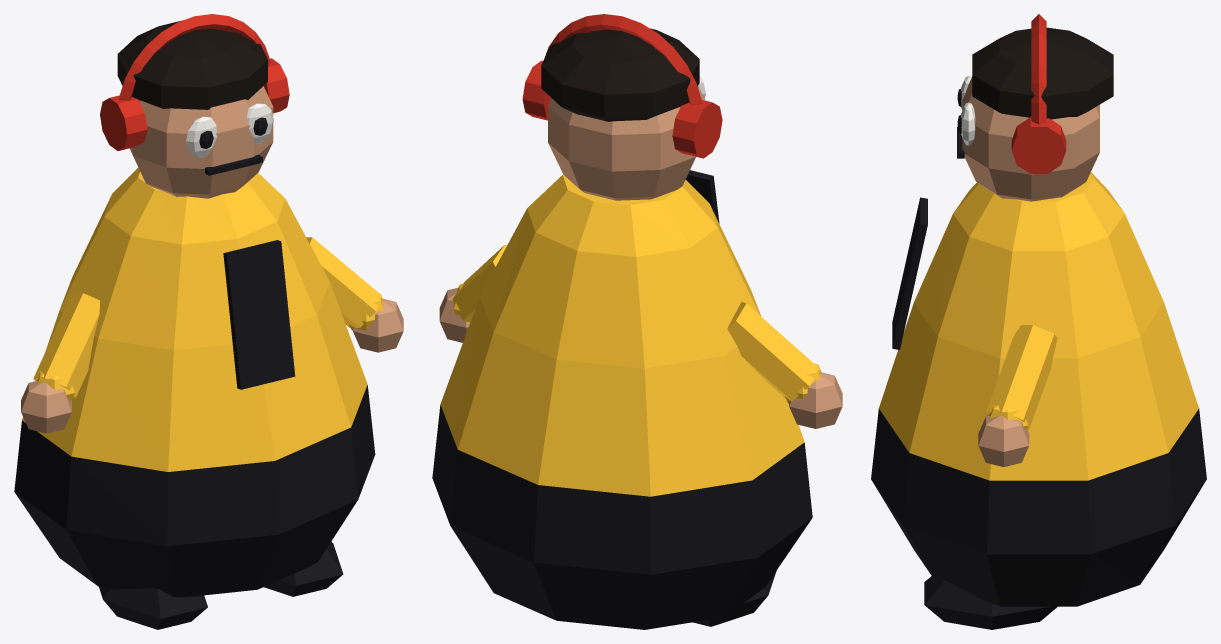
File: npc_don_volumen.glb
3 renders of one model, left to right at view 1: azimuth 30°, elevation 25°; view 2: azimuth 150°, elevation 25°; view 3: azimuth 270°, elevation 25°, orthographic. The views are drawn at different scales.
Visible parts, largest first — view 1: body_volumen_jacket, body_black, hair_volumen_hair, head_skin_volumen, shirt_black, arms_volumen_jacket, headphones_volumen_headphones, legs_black, arms_skin_volumen, face_white; view 2: body_volumen_jacket, body_black, hair_volumen_hair, head_skin_volumen, arms_volumen_jacket, headphones_volumen_headphones, arms_skin_volumen, legs_black, shirt_black; view 3: body_volumen_jacket, body_black, hair_volumen_hair, head_skin_volumen, arms_volumen_jacket, headphones_volumen_headphones, legs_black, arms_skin_volumen, shirt_black, face_white.
Boxes of the visible parts, box(x1,y1,x2,y2) form: body_volumen_jacket: box(22, 167, 367, 471); body_black: box(14, 385, 375, 597); hair_volumen_hair: box(117, 20, 267, 109); head_skin_volumen: box(129, 86, 273, 198); shirt_black: box(223, 240, 295, 389); arms_volumen_jacket: box(33, 237, 383, 402); headphones_volumen_headphones: box(100, 14, 289, 150); legs_black: box(99, 541, 343, 629); arms_skin_volumen: box(21, 299, 403, 433); face_white: box(186, 103, 273, 157); body_volumen_jacket: box(440, 174, 804, 496); body_black: box(432, 404, 812, 629); hair_volumen_hair: box(541, 28, 699, 121); head_skin_volumen: box(548, 86, 705, 200); arms_volumen_jacket: box(452, 244, 821, 403); headphones_volumen_headphones: box(522, 14, 722, 158); arms_skin_volumen: box(439, 288, 842, 428); legs_black: box(693, 571, 776, 626); shirt_black: box(685, 170, 719, 223); body_volumen_jacket: box(879, 172, 1198, 480); body_black: box(871, 408, 1206, 606); hair_volumen_hair: box(972, 27, 1113, 119); head_skin_volumen: box(962, 77, 1099, 201); arms_volumen_jacket: box(986, 325, 1057, 430); headphones_volumen_headphones: box(1011, 14, 1066, 173); legs_black: box(924, 576, 1057, 629); arms_skin_volumen: box(978, 415, 1029, 466); shirt_black: box(892, 197, 927, 349); face_white: box(961, 76, 975, 145).
Bounding box in the file's own units: 1.13 × 1.6 × 0.86.
